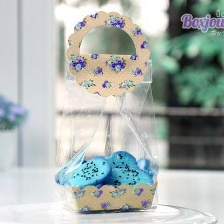snack: (43, 3, 169, 219)
